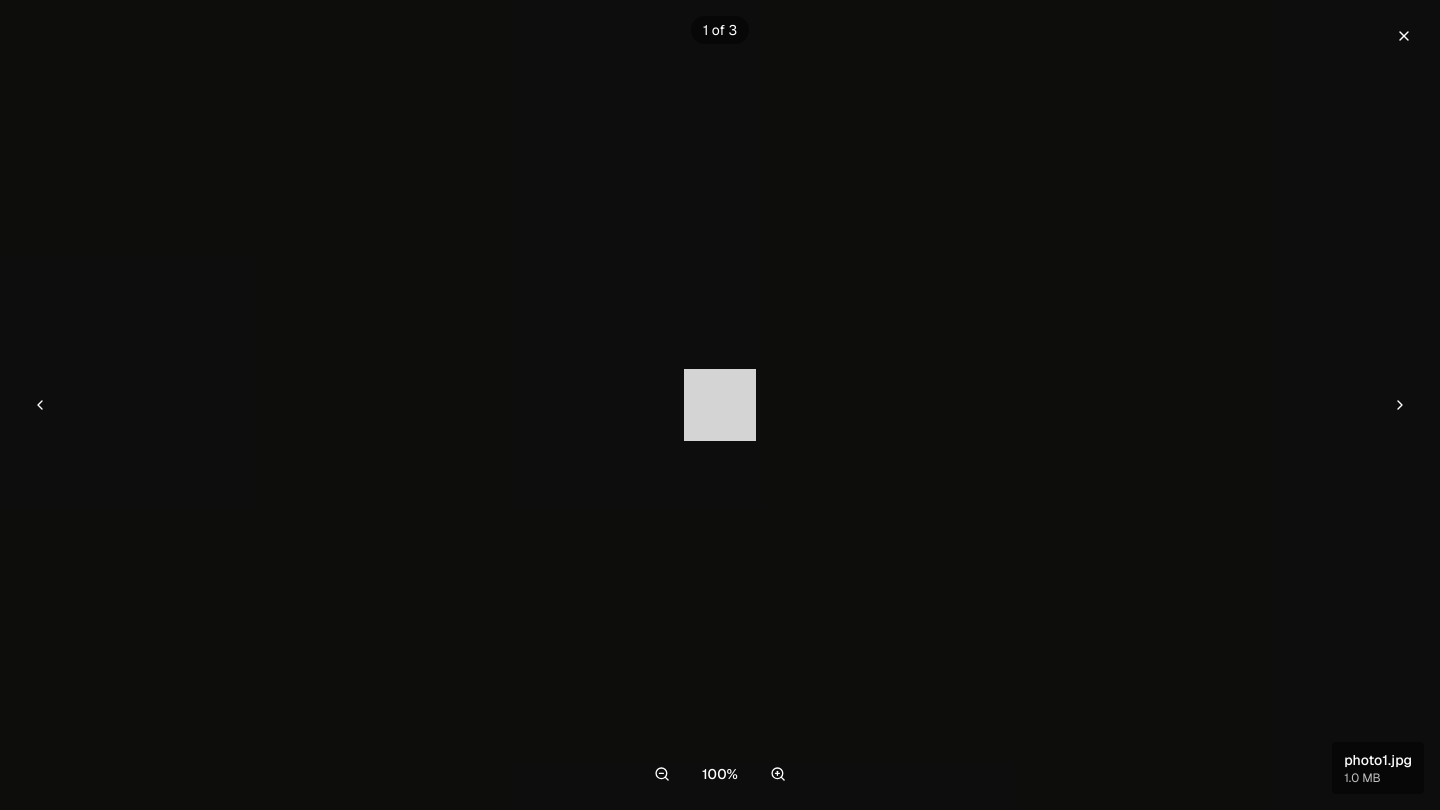
Test: PhotoLightbox › Zoom Controls › zooms in when zoom in button is clicked
The width and height of the screenshot is (1440, 810).
Click the button named "Zoom in" at (778, 774), box [758, 754, 798, 794]
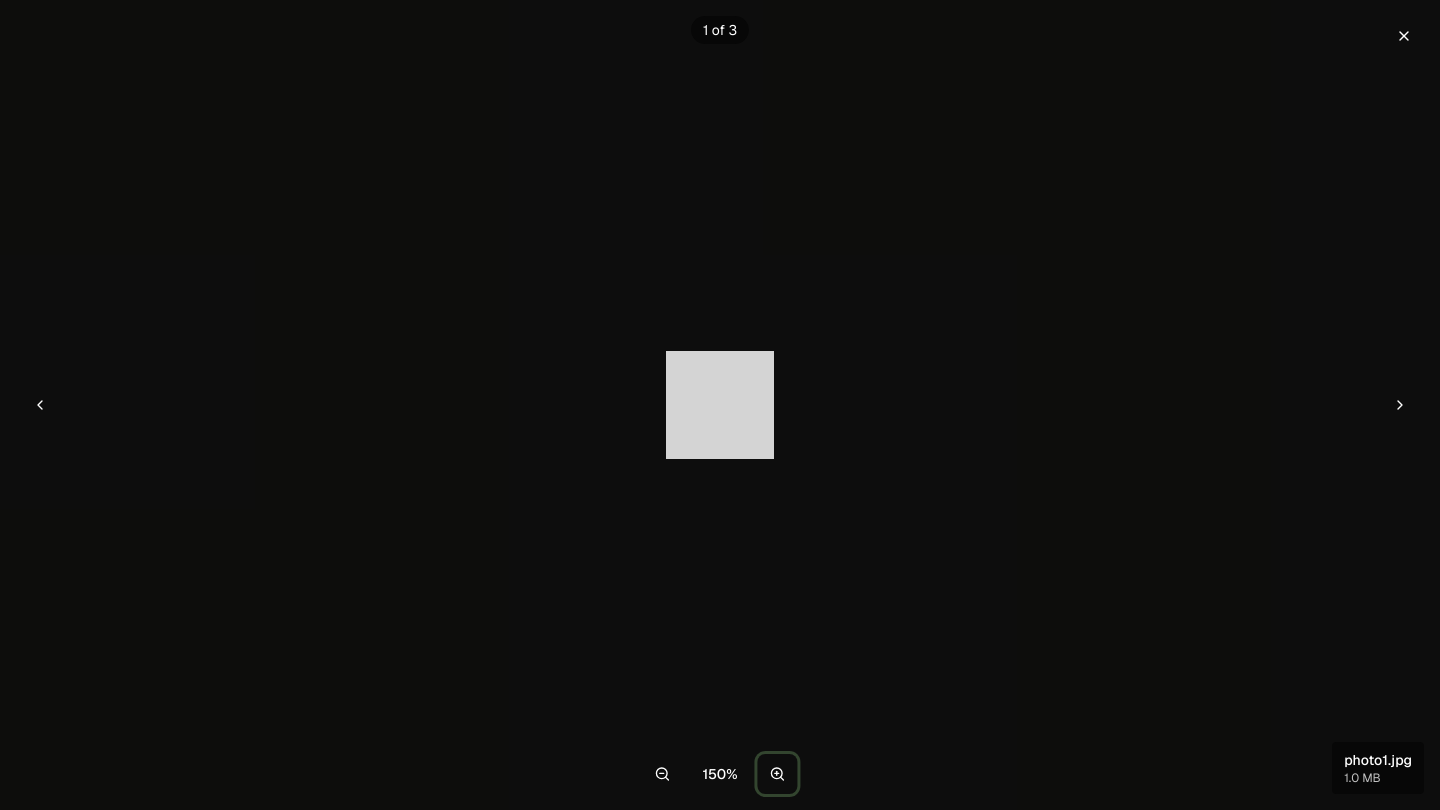
Result: the button "150%" is shown at [690, 754, 750, 794]
